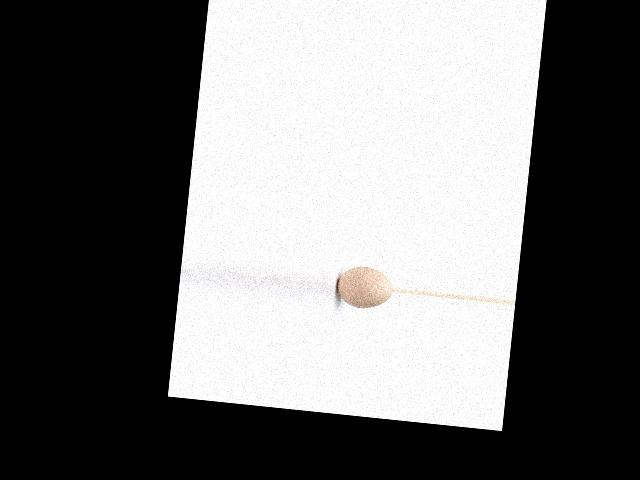egg: (335, 264, 394, 310)
